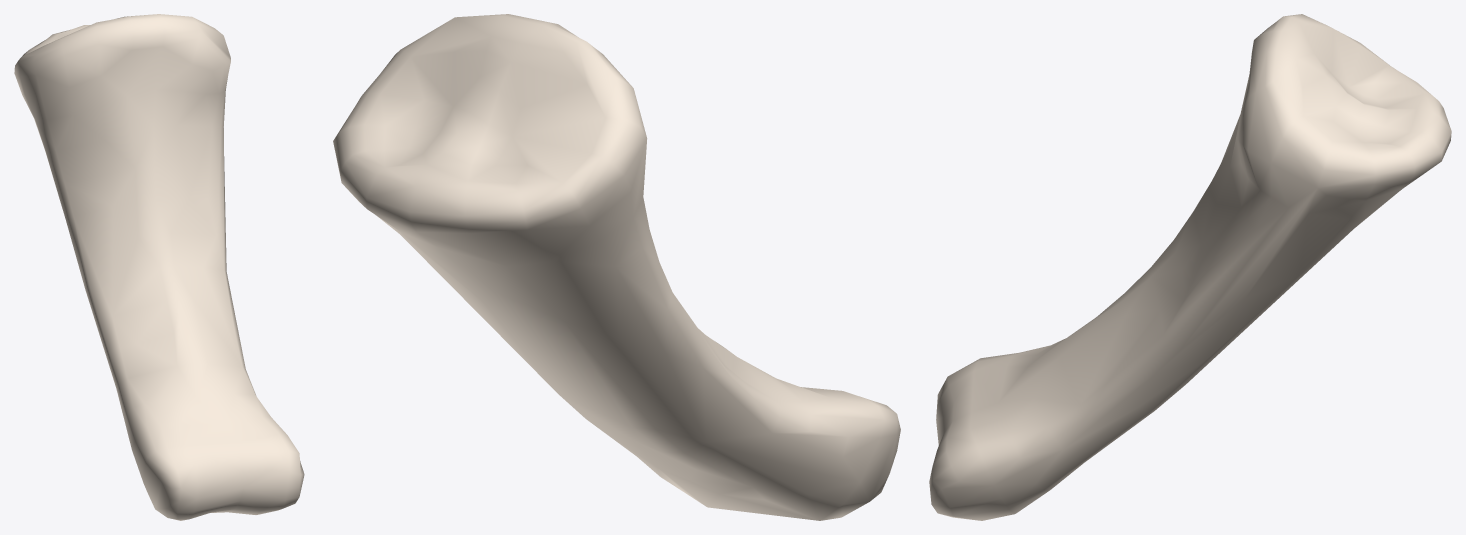
Rendered from right_digit_3_middle.glb.
The picture shows the model from 3 angles, left to right: view 1: azimuth 30°, elevation 25°; view 2: azimuth 150°, elevation 25°; view 3: azimuth 270°, elevation 25°; orthographic projection. The views are drawn at different scales.
Parts seen in each view (by area): view 1: Middle phalanx of 3rd finger.r; view 2: Middle phalanx of 3rd finger.r; view 3: Middle phalanx of 3rd finger.r.
Boxes of the visible parts, x1=… form: Middle phalanx of 3rd finger.r: x1=14, y1=14, x2=304, y2=520; Middle phalanx of 3rd finger.r: x1=333, y1=14, x2=900, y2=520; Middle phalanx of 3rd finger.r: x1=929, y1=14, x2=1451, y2=520.
Size of the model in its own units: 0.0132 by 0.0245 by 0.0238.
